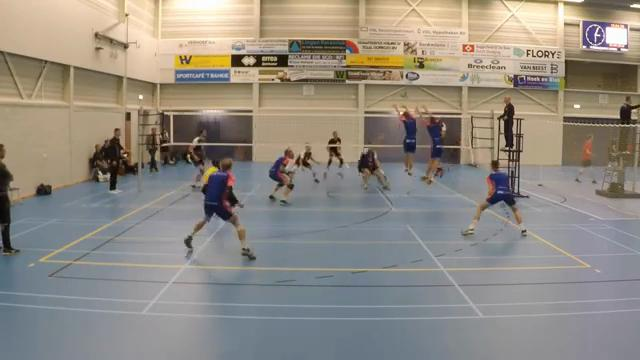Attack: (437, 117, 448, 180)
Block: (416, 104, 452, 187), (389, 100, 419, 178)
Player: (184, 158, 255, 259), (462, 160, 526, 235), (269, 148, 293, 205), (358, 148, 389, 189), (575, 134, 596, 183), (188, 129, 205, 187), (324, 131, 343, 179), (295, 143, 318, 182), (228, 171, 243, 207)
